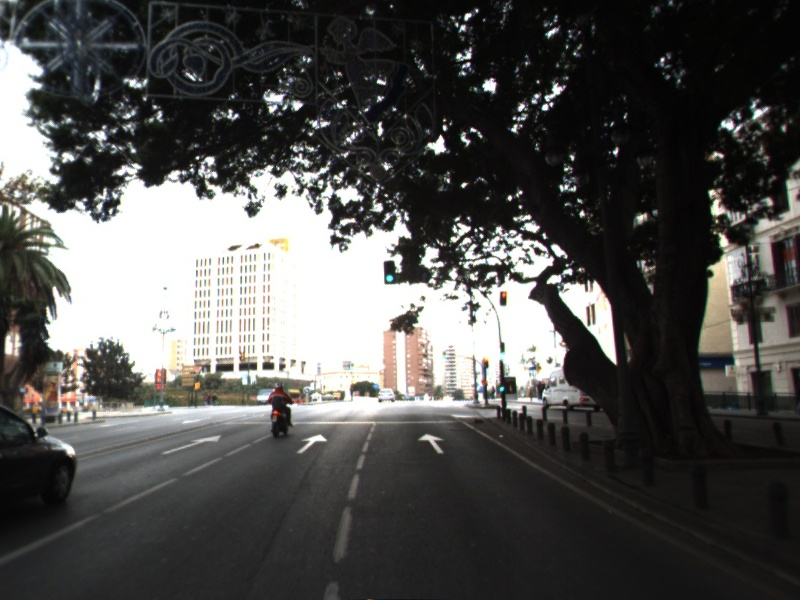STRAIGHT: (159, 433, 224, 457), (294, 432, 330, 456), (416, 431, 447, 456)
